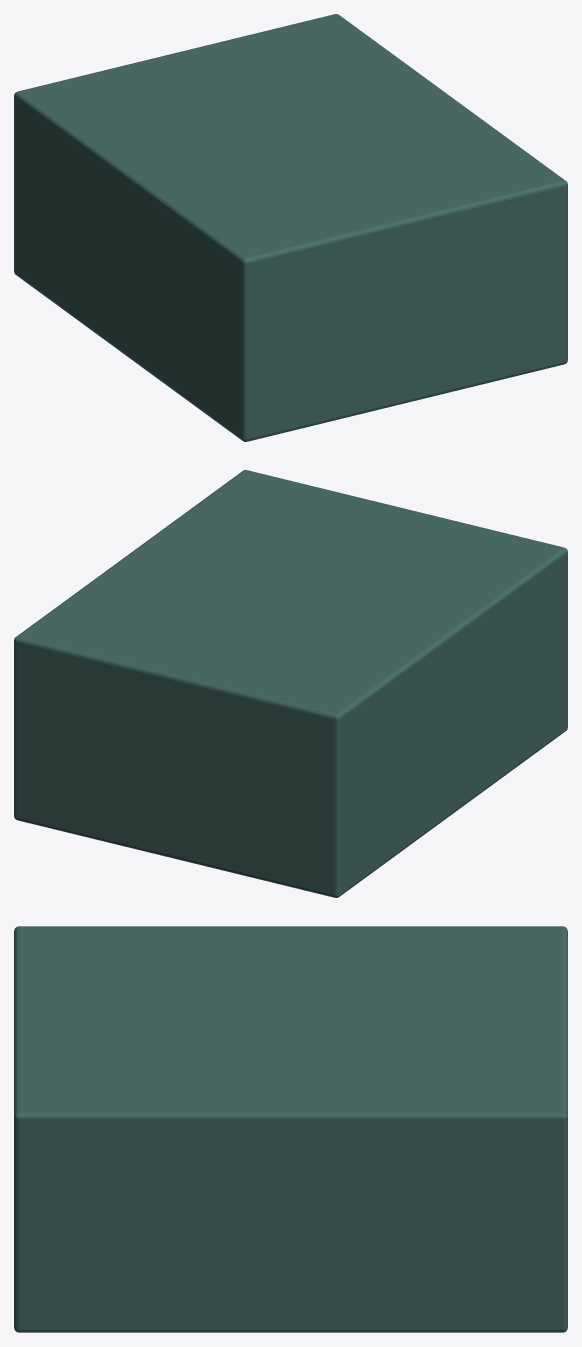
Rendered from liftWeight6.glb.
3 views of the same model, one above another, from view 1: azimuth 30°, elevation 25°; view 2: azimuth 150°, elevation 25°; view 3: azimuth 270°, elevation 25° (orthographic). The views are drawn at different scales.
Visible parts, largest first — view 1: liftWeight6; view 2: liftWeight6; view 3: liftWeight6.
Part boxes in pixels (bbox=[...]): liftWeight6: bbox=[14, 14, 567, 441]; liftWeight6: bbox=[14, 470, 567, 897]; liftWeight6: bbox=[14, 926, 567, 1332].
Bounding box in the file's own units: 0.026 × 0.014 × 0.032.
